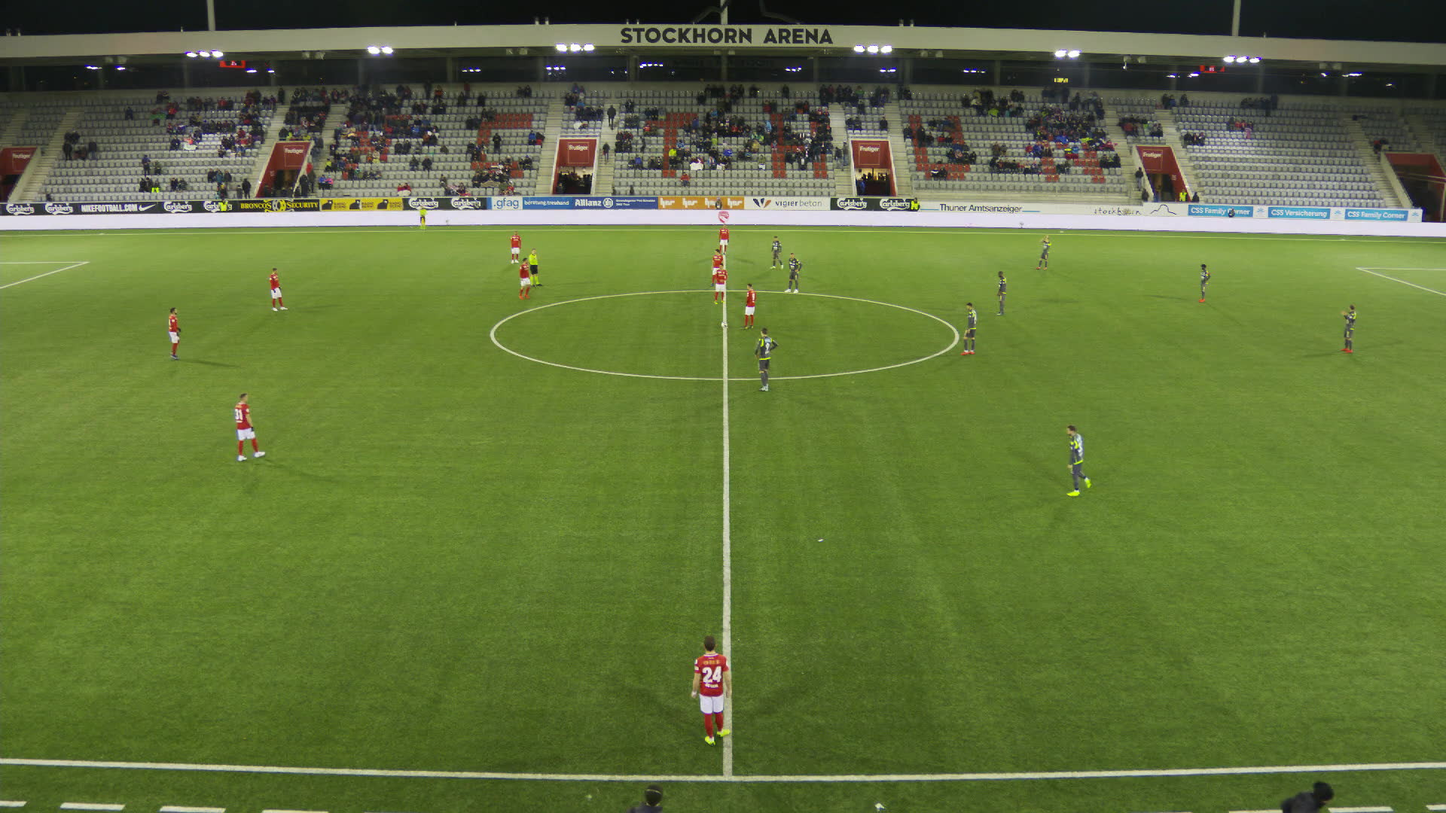ball: (721, 321, 728, 327)
player: (688, 635, 733, 746), (233, 393, 264, 460), (1064, 425, 1091, 495), (752, 328, 777, 391), (960, 301, 978, 354), (268, 266, 287, 310), (1341, 303, 1358, 350), (783, 252, 801, 291), (168, 307, 182, 357), (743, 283, 756, 328), (713, 263, 727, 304), (518, 257, 531, 299), (1036, 236, 1052, 268), (1198, 264, 1210, 302), (996, 269, 1006, 313), (770, 236, 783, 269), (712, 249, 723, 282), (511, 231, 522, 263), (718, 224, 729, 252)
referee: (526, 248, 541, 285), (419, 208, 426, 228)
